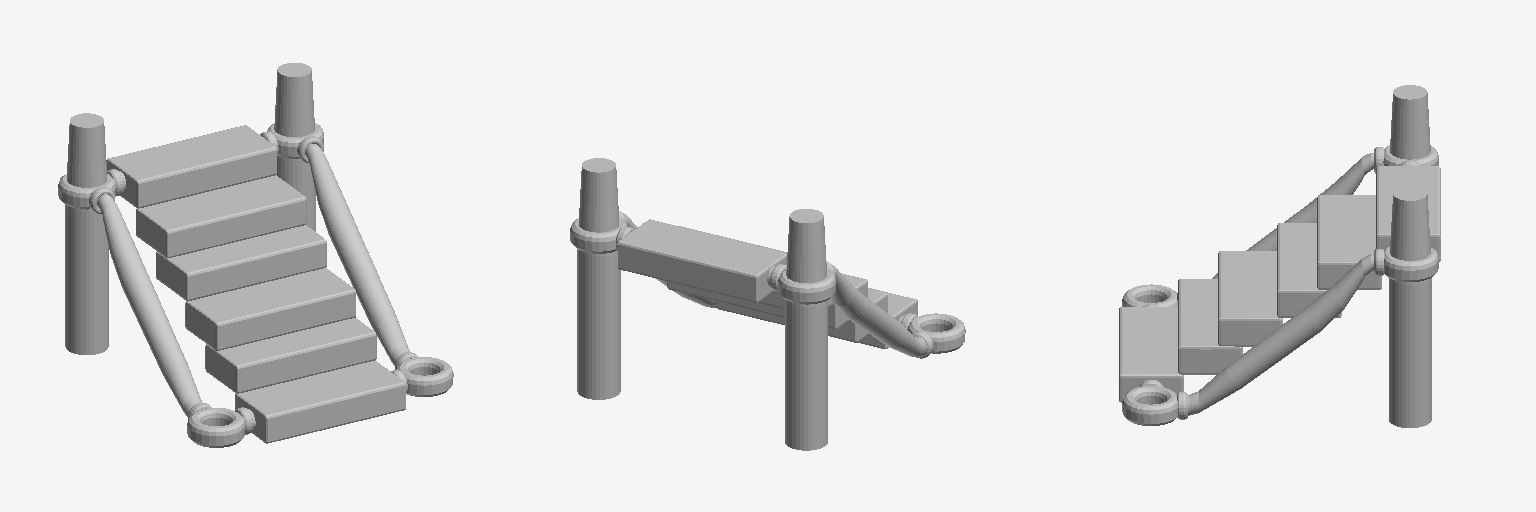
File: step_wood.obj
3 views of the same model, side by side, from view 1: azimuth 30°, elevation 25°; view 2: azimuth 150°, elevation 25°; view 3: azimuth 270°, elevation 25° (orthographic).
Visible parts, largest first — view 1: step_wood; view 2: step_wood; view 3: step_wood.
Boxes of the visible parts, x1,y1,x2,y2 form: step_wood: [58, 63, 453, 447]; step_wood: [570, 158, 965, 450]; step_wood: [1119, 85, 1440, 427].
Size of the model in its own units: 5.8 by 4.85 by 6.26.